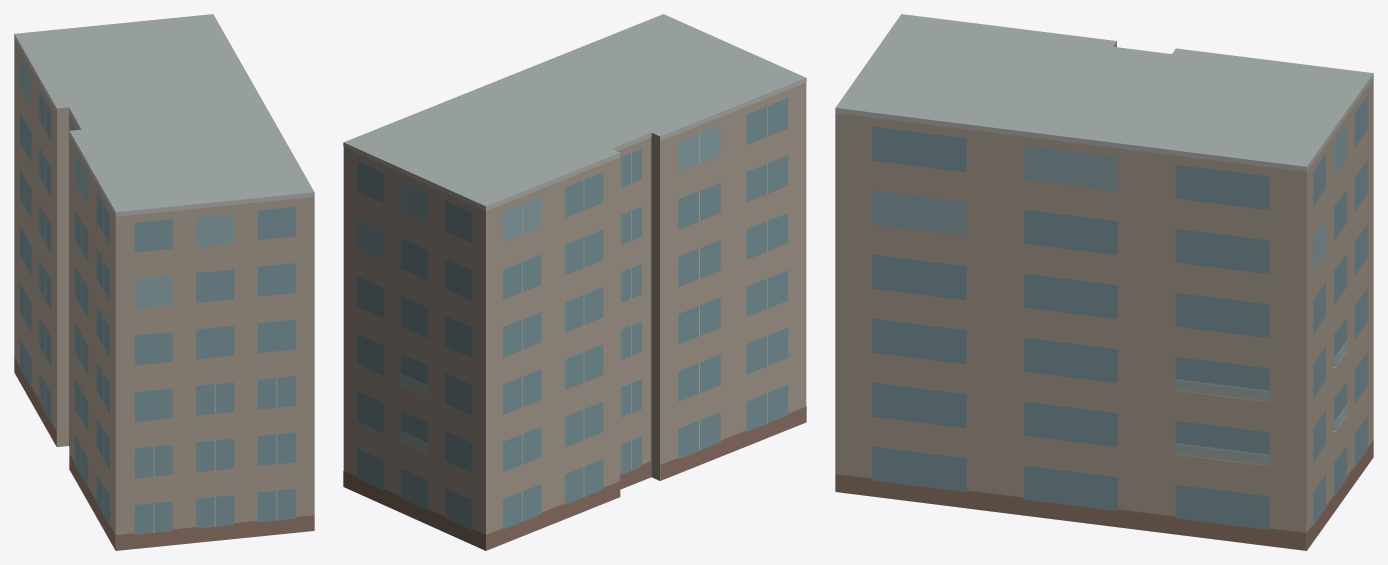
Rendered from survey-upis-32654056.glb.
3 renders of one model, left to right at view 1: azimuth 30°, elevation 25°; view 2: azimuth 150°, elevation 25°; view 3: azimuth 270°, elevation 25°, orthographic. The views are drawn at different scales.
Parts seen in each view (by area): view 1: survey-upis-32654056.tmp; view 2: survey-upis-32654056.tmp; view 3: survey-upis-32654056.tmp.
Boxes of the visible parts, <box> form: survey-upis-32654056.tmp: <box>14,14,314,550</box>; survey-upis-32654056.tmp: <box>343,14,806,550</box>; survey-upis-32654056.tmp: <box>835,14,1373,550</box>.
Bounding box in the file's own units: 15.38 × 18 × 22.88.
